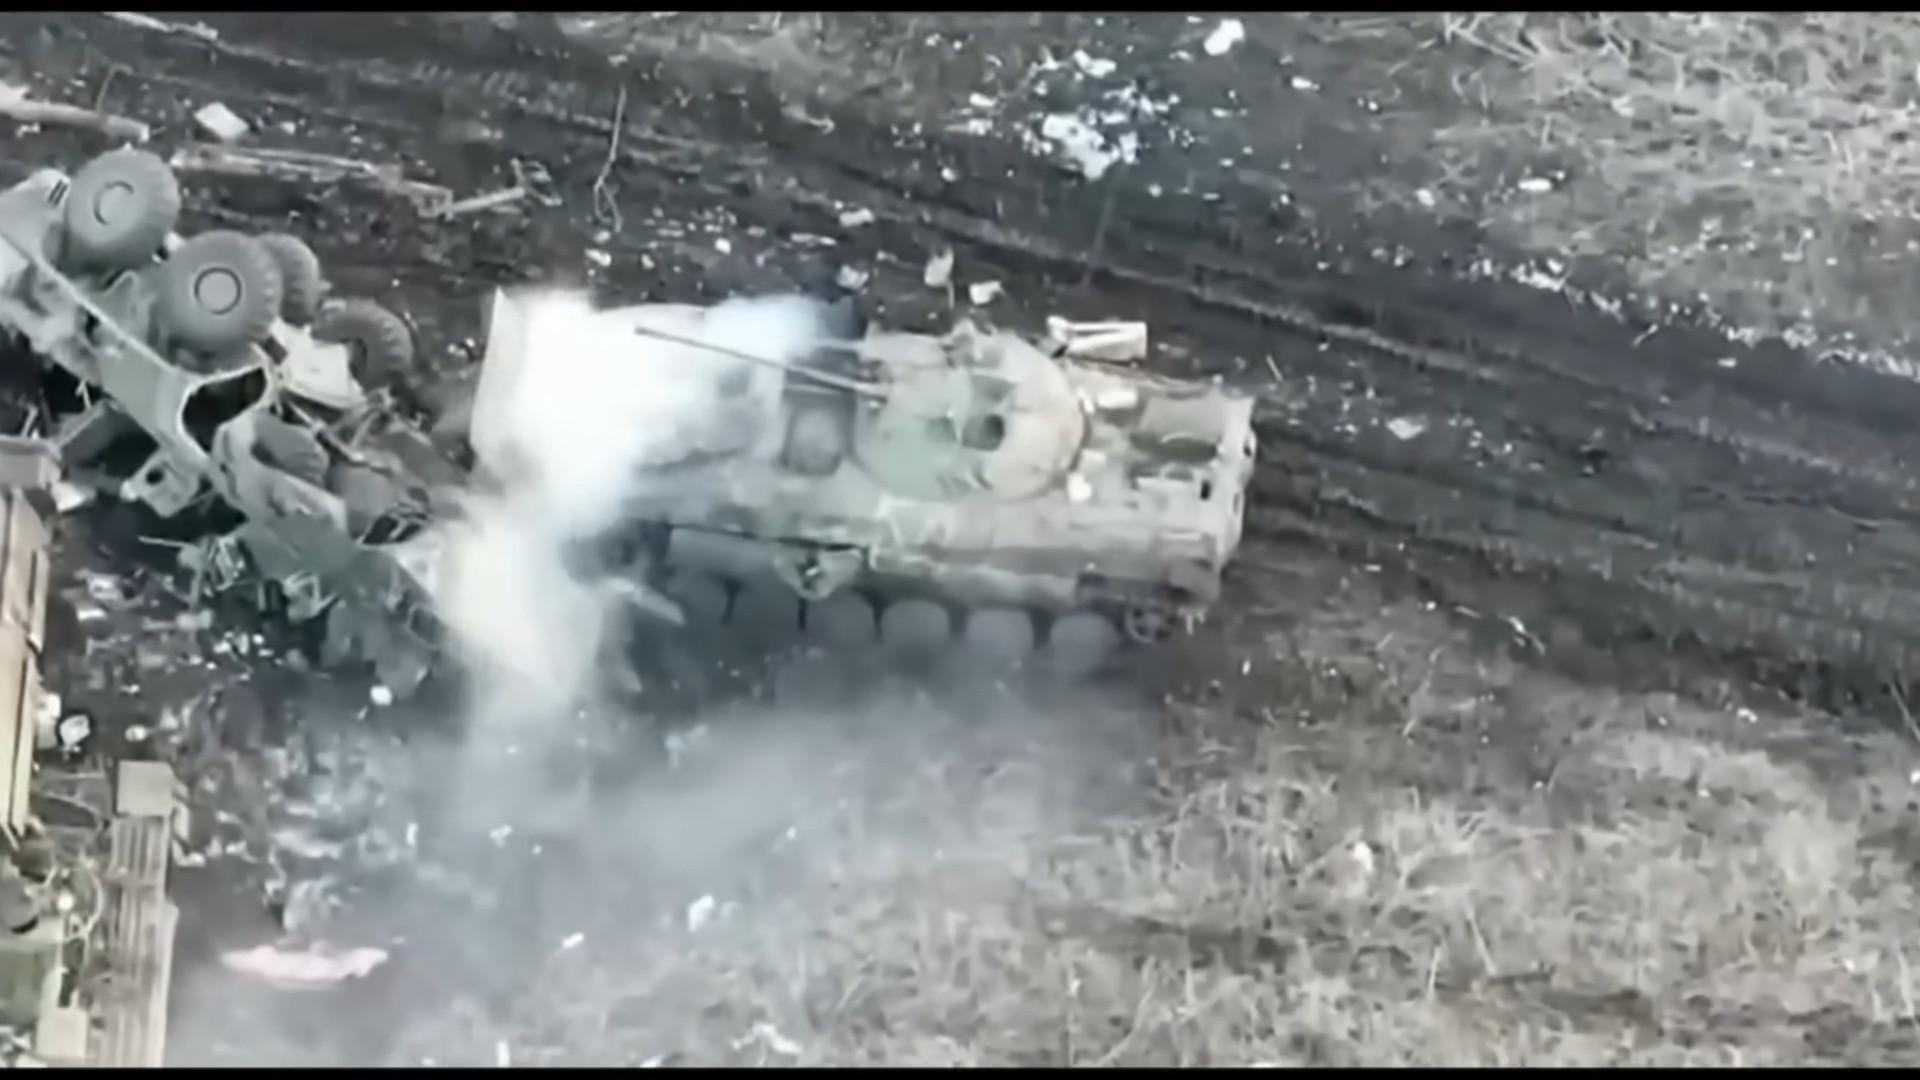tank: (563, 319, 1257, 669)
